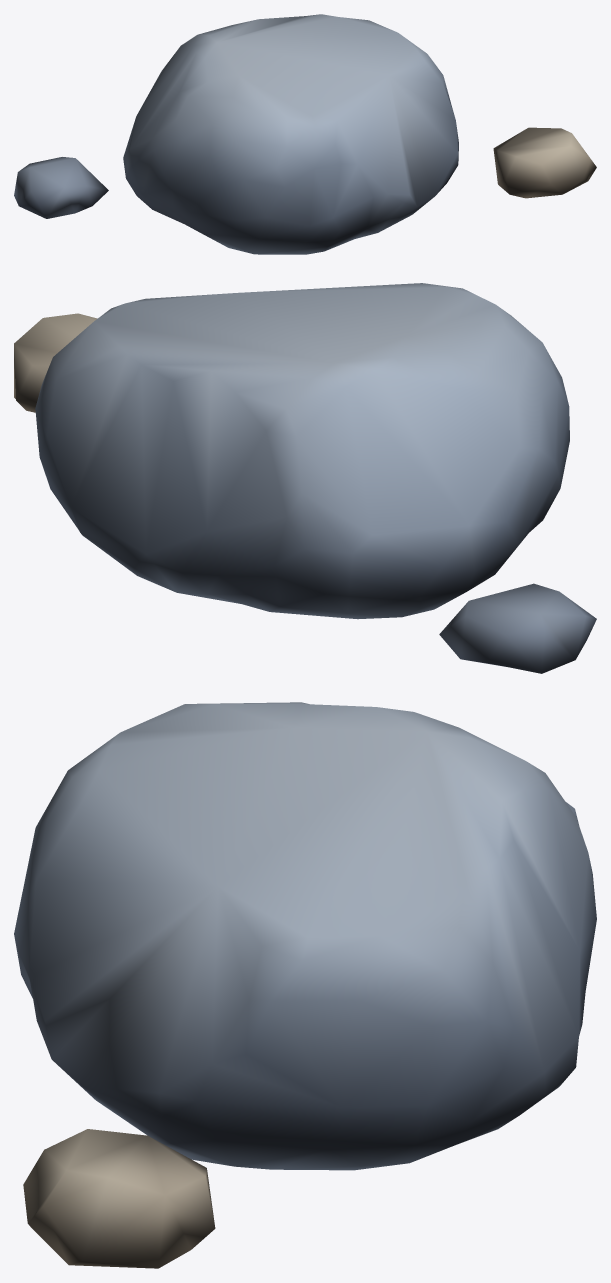
Rendered from prop-scav-riverStone-taken.glb.
3 views of the same model, one above another, from view 1: azimuth 30°, elevation 25°; view 2: azimuth 150°, elevation 25°; view 3: azimuth 270°, elevation 25° (orthographic). The views are drawn at different scales.
Visible parts, largest first — view 1: body; view 2: body; view 3: body.
Part boxes in pixels (x1,y1,x2,y2): body: (14, 14, 596, 254); body: (14, 283, 596, 673); body: (14, 702, 596, 1268).
Size of the model in its own units: 1.1 by 0.3401 by 0.6101.
